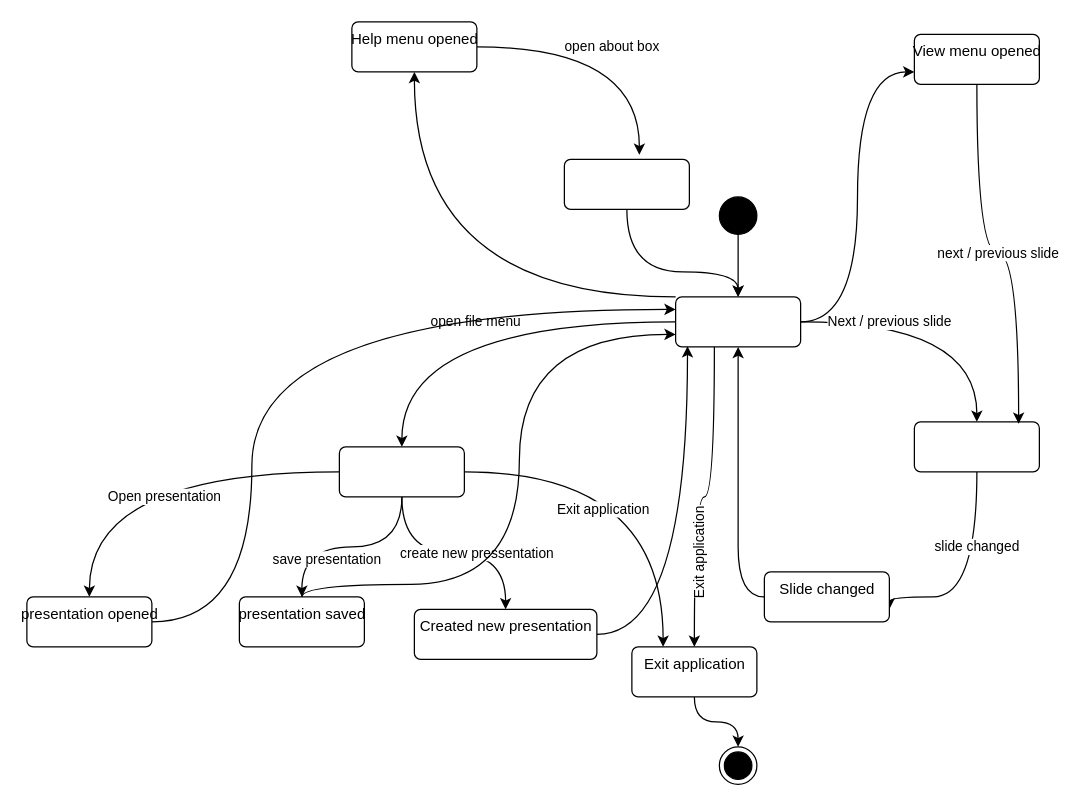
Image size: 1080x806. Some labels were removed from this diagram. Each missing label, with the centre of its shape:
"About box opened" goes at point 626,183.
"changing slide" goes at point 976,446.
"File menu opened" goes at point 401,471.
"Idle" goes at point 737,321.
